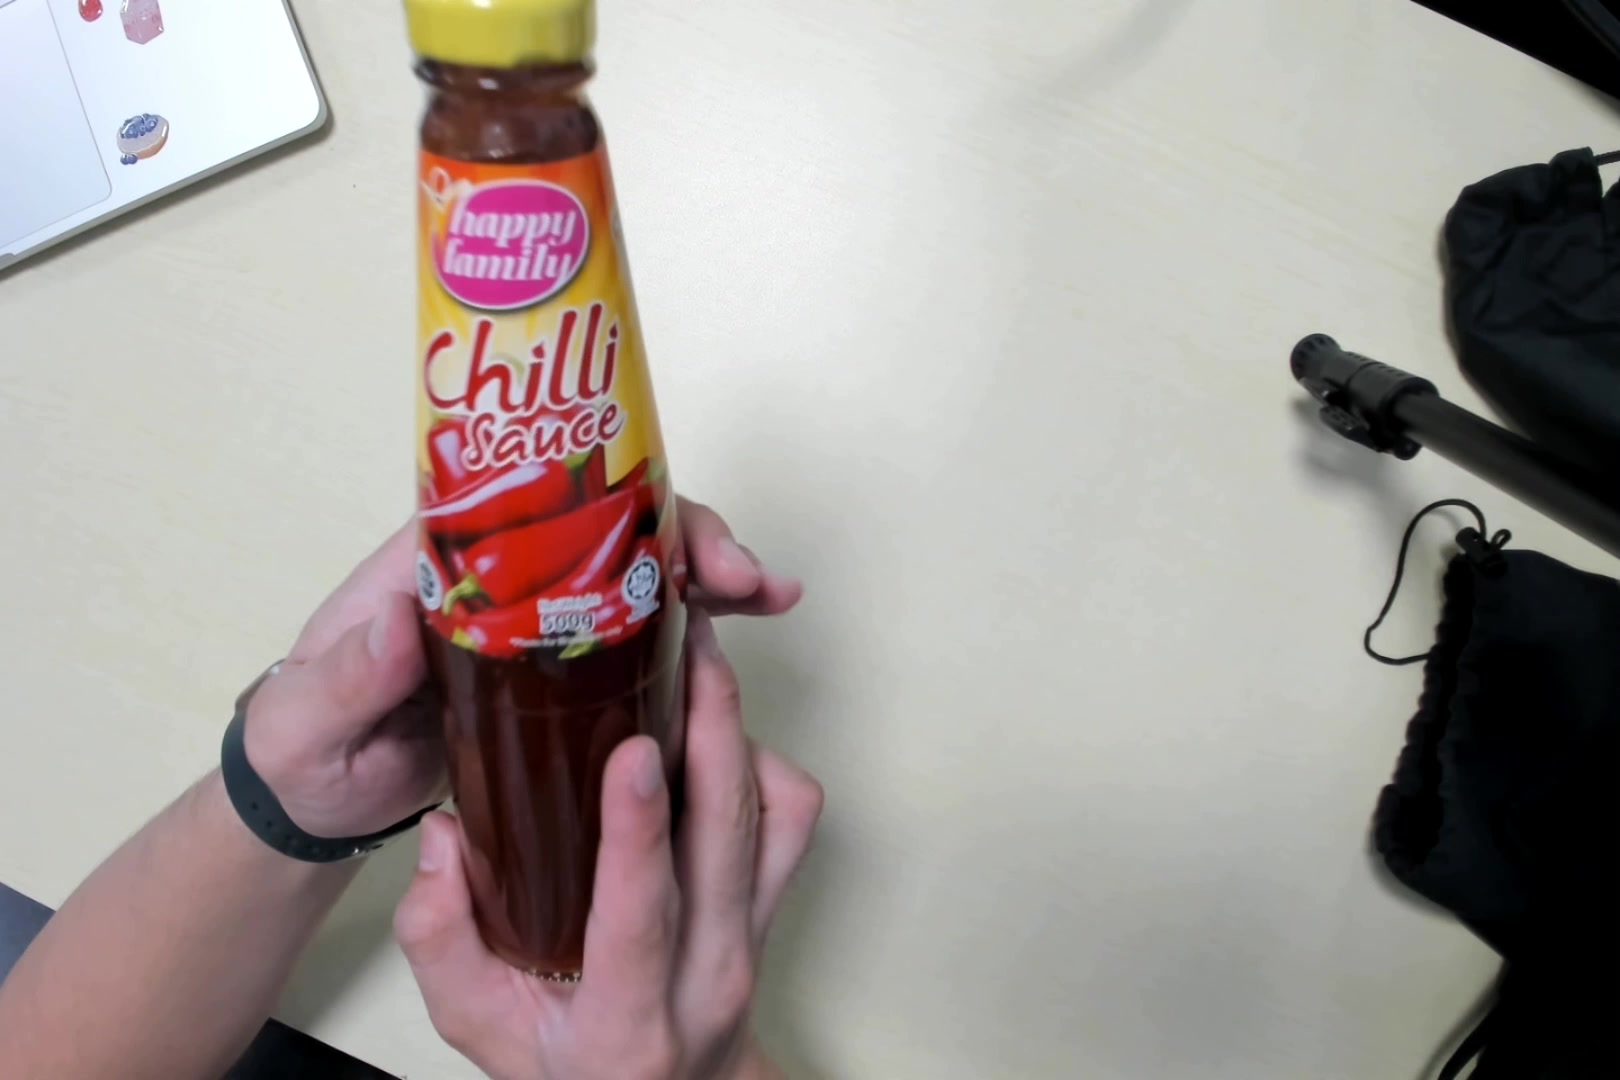KetchupChillSauce_500-599g_Halal_NonHealthy: (412, 4, 698, 972)
